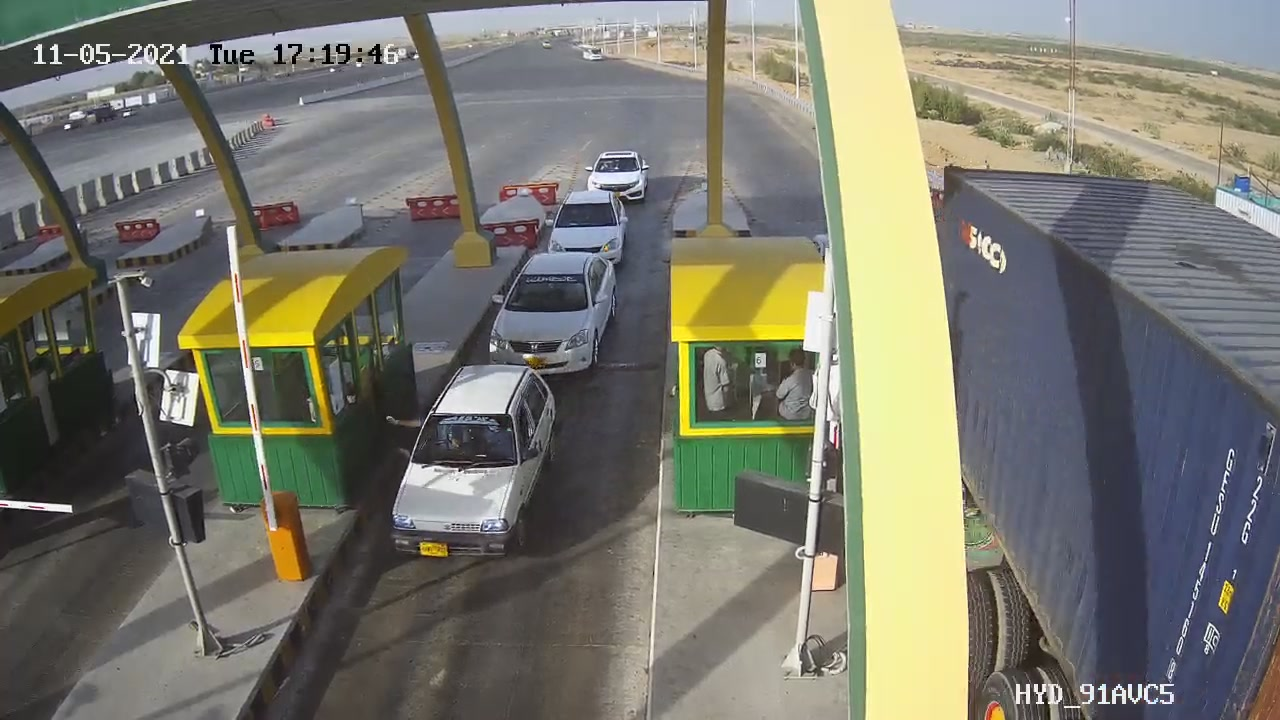F1: (381, 343, 573, 575), (479, 239, 631, 391), (537, 181, 646, 278)
